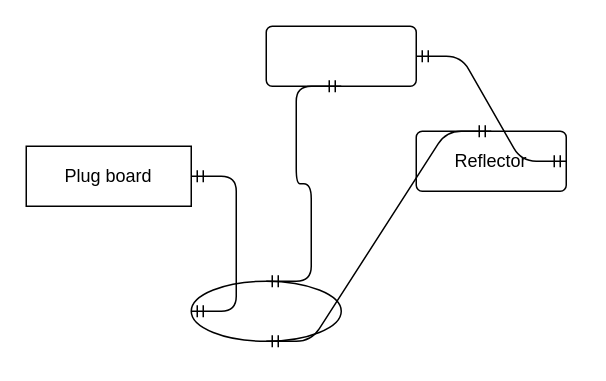
Image size: 606x381. Some labels were removed from this diagram. The shapes that lost their labels are listed below. From the top down, each one's centre as x and y in pixels, then its label:
point (340, 55): Scrambler
point (265, 310): text
